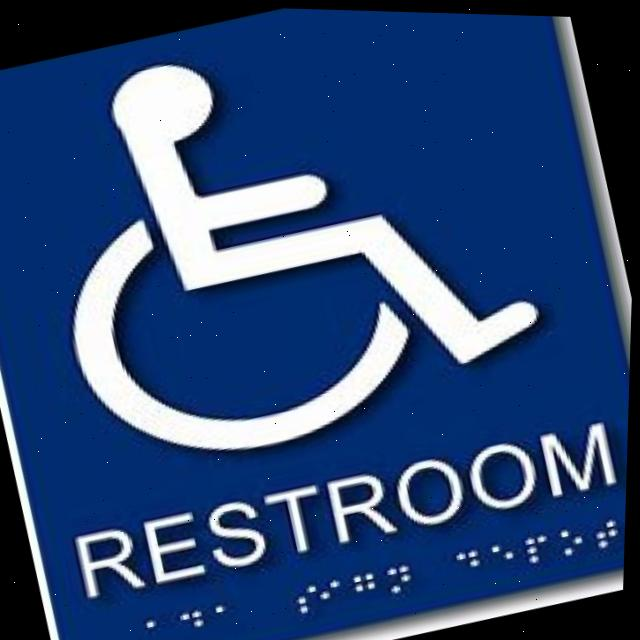symbol_of_access: (6, 0, 573, 500)
